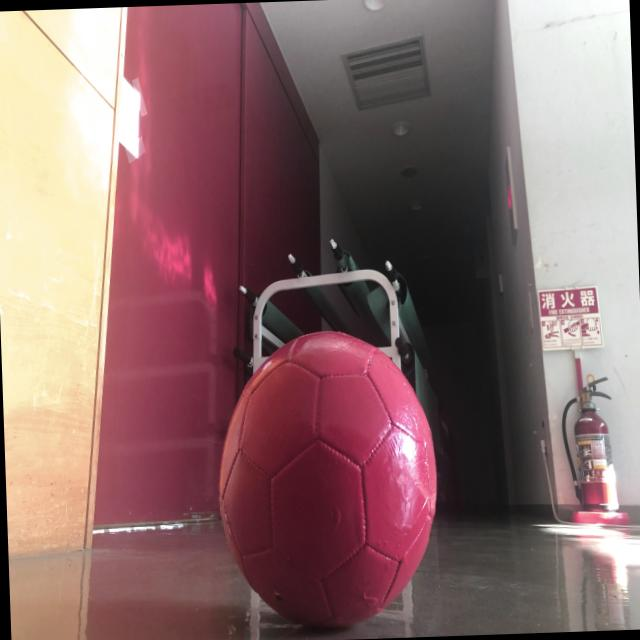red_ball: (211, 324, 443, 632)
